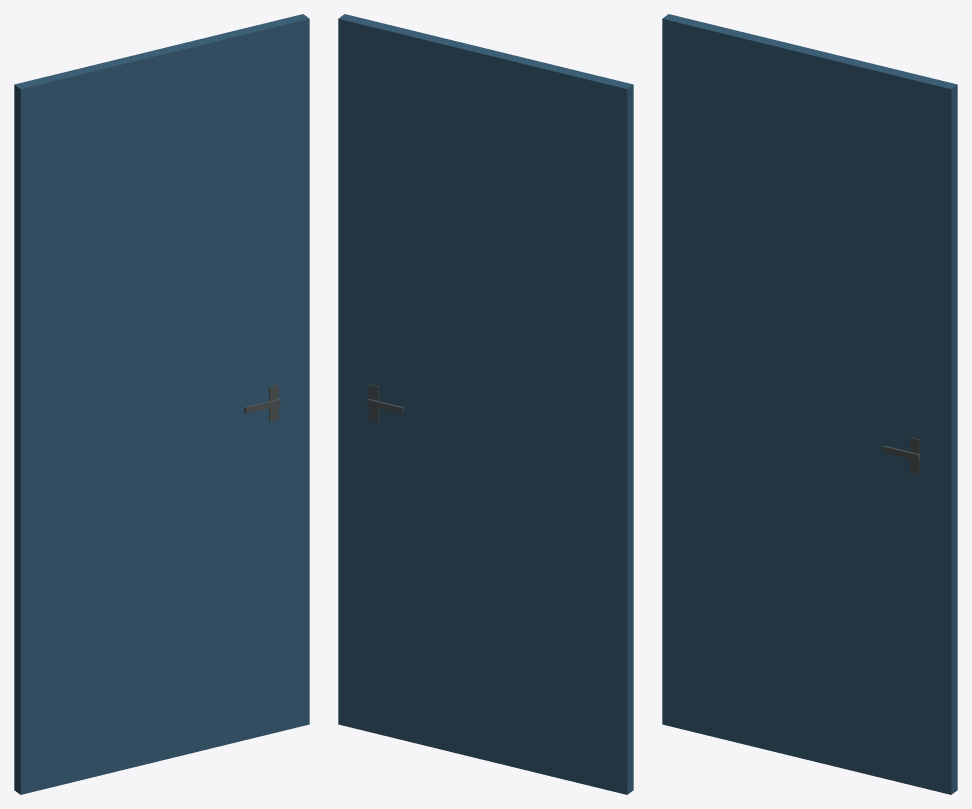
File: res_door.glb
3 views of the same model, side by side, from view 1: azimuth 30°, elevation 25°; view 2: azimuth 150°, elevation 25°; view 3: azimuth 330°, elevation 25° (orthographic).
Visible parts, largest first — view 1: res_door; view 2: res_door; view 3: res_door.
Boxes of the visible parts, x1,y1,x2,y2 form: res_door: (14, 14, 309, 794); res_door: (338, 14, 633, 794); res_door: (662, 14, 957, 794).
Bounding box in the file's own units: 0.9 × 2.1 × 0.055.
